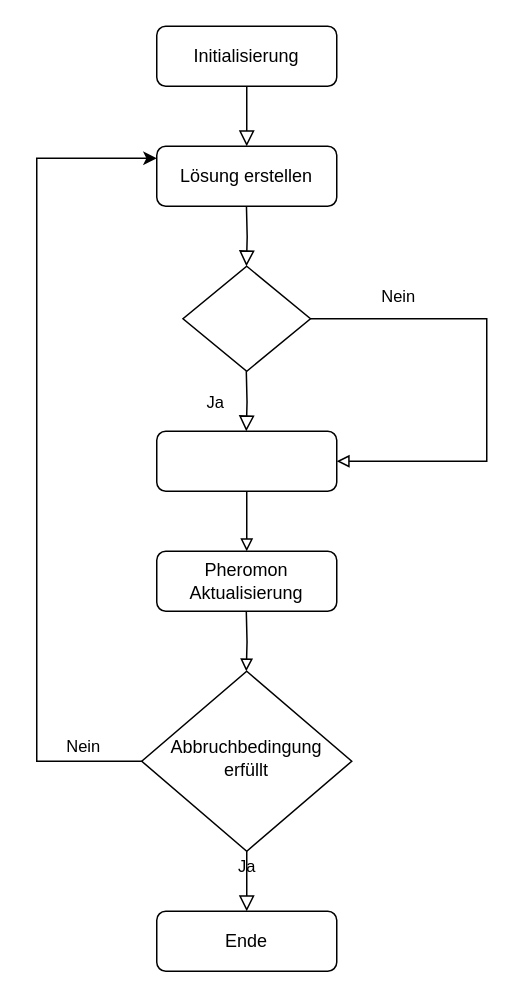
Image size: 525x998. Some labels were removed from this diagram. Here are the shapes that lost their labels. From the top down, the centre of each, then its label:
At point 246,318: "Mutation".
At point 246,460: "Lokale Optimierung".
